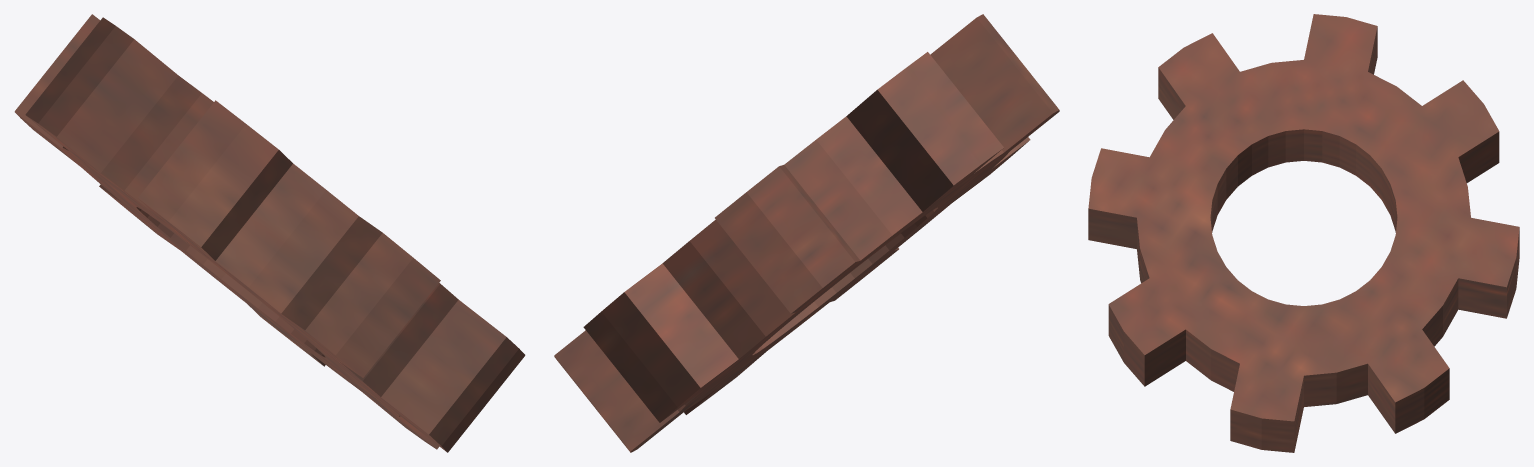
File: Tuerca.glb
The picture shows the model from 3 angles, left to right: view 1: azimuth 30°, elevation 25°; view 2: azimuth 150°, elevation 25°; view 3: azimuth 270°, elevation 25°; orthographic projection. The views are drawn at different scales.
Visible parts, largest first — view 1: Cylinder.001; view 2: Cylinder.001; view 3: Cylinder.001.
Part boxes in pixels (bbox=[...]): Cylinder.001: bbox=[14, 14, 525, 452]; Cylinder.001: bbox=[554, 14, 1059, 452]; Cylinder.001: bbox=[1088, 14, 1519, 452].
Bounding box in the file's own units: 0.1394 × 0.1423 × 0.1628.
1 material, 1 textured.
